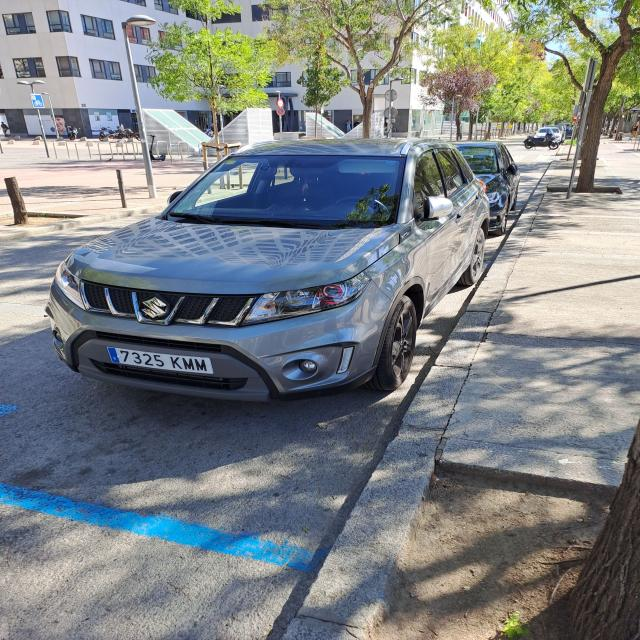license_plate-34Td: (107, 346, 213, 375)
